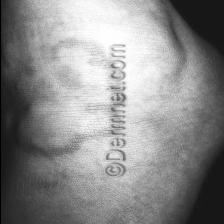Unclassified: (9, 34, 105, 160)
